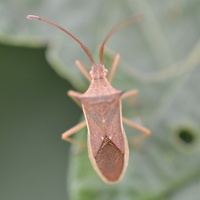insect: (27, 15, 150, 182)
